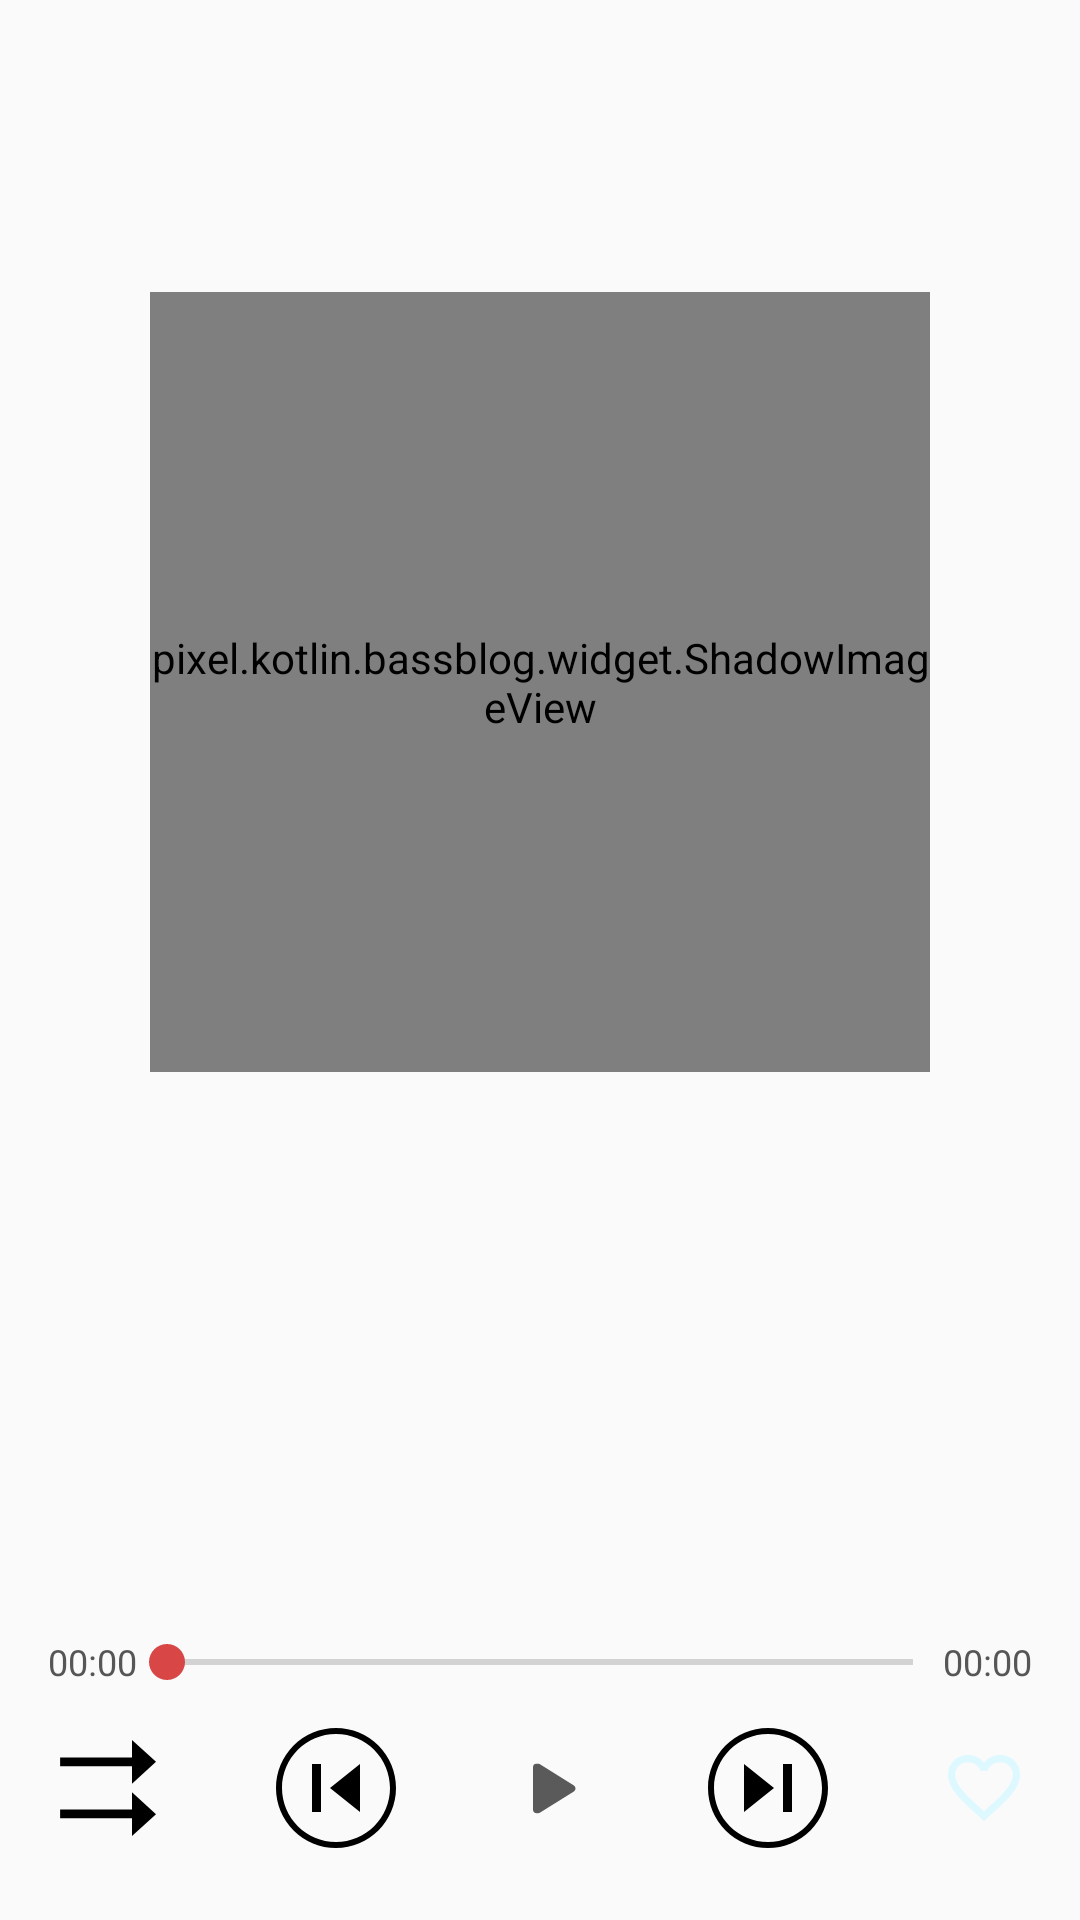

Icon bounding boxes for this 1080 × 1920 phone screenshot, format (x1, y1, x2, y2):
favorite no: (948, 1755, 1020, 1820)
play: (533, 1763, 576, 1814)
play last: (276, 1728, 396, 1848)
play mode list: (60, 1740, 156, 1836)
play next: (708, 1728, 828, 1848)
